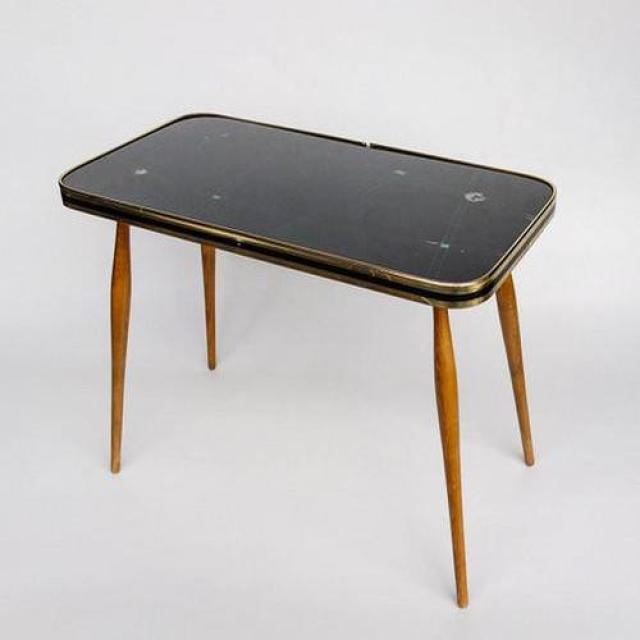table: (58, 113, 556, 609)
